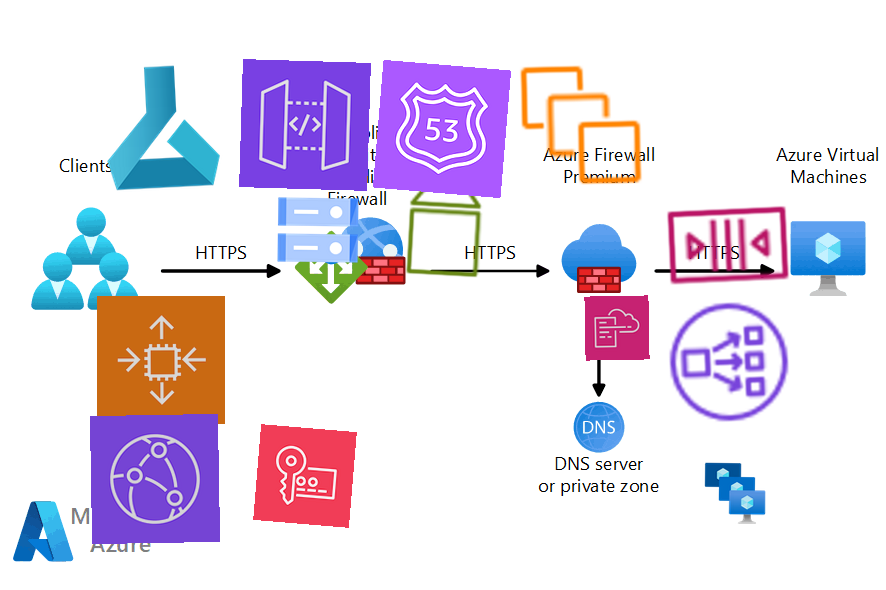aws_amazon_api_gateway: (239, 59, 371, 191)
aws_amazon_cloudfront: (89, 413, 221, 545)
aws_amazon_ec2_auto_scaling: (96, 295, 226, 425)
aws_amazon_route_53: (372, 59, 512, 199)
aws_cloudformation: (584, 295, 650, 361)
aws_ec2_instances: (515, 59, 647, 191)
aws_elastic_block_store_volume: (394, 180, 496, 282)
aws_elastic_load_balancing_network_load_balancer: (662, 295, 796, 429)
aws_key_management_service: (253, 424, 357, 528)
aws_simple_queue_service_queue: (661, 177, 795, 311)
azure_machine_learning: (94, 59, 230, 195)
azure_vm_scale_sets: (701, 459, 767, 525)
gcp_cloud_storage: (269, 181, 367, 279)
